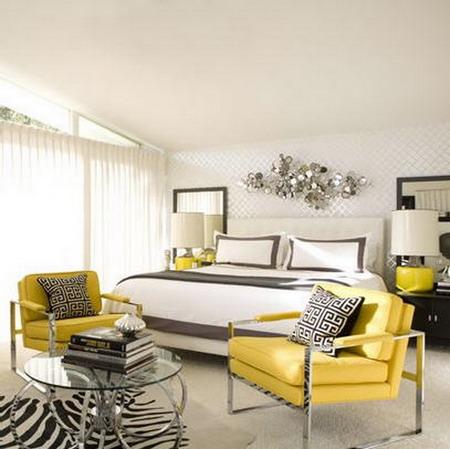chairs: (221, 283, 429, 449), (8, 267, 153, 377)
